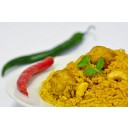briyani: (54, 50, 128, 106)
